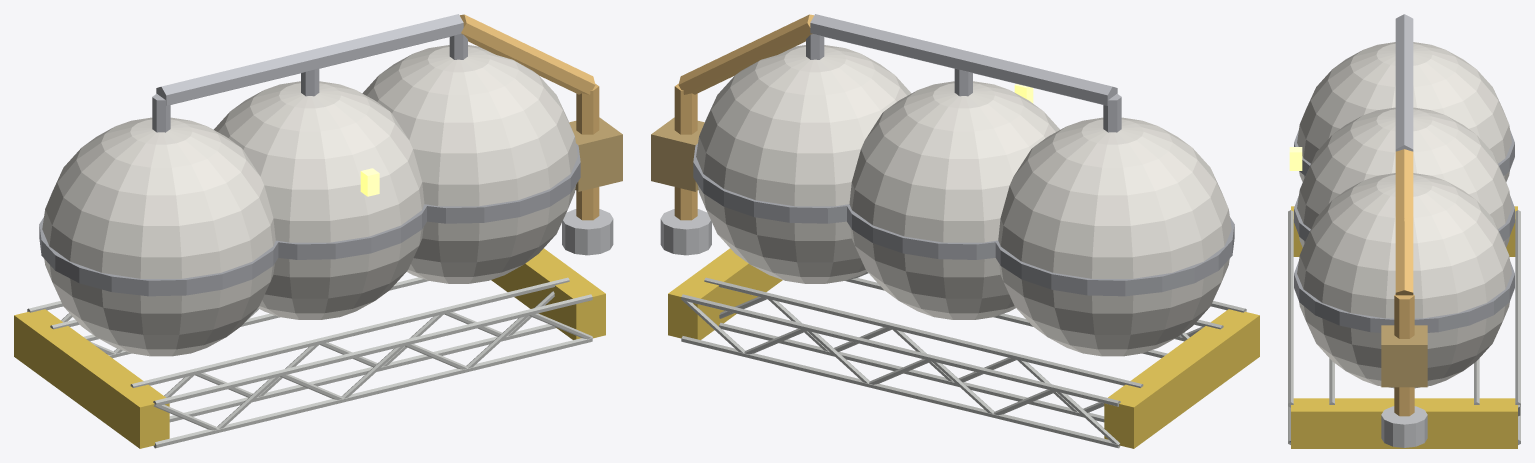
Rendered from slurry_tank.glb.
3 views of the same model, side by side, from view 1: azimuth 30°, elevation 25°; view 2: azimuth 150°, elevation 25°; view 3: azimuth 270°, elevation 25° (orthographic). The views are drawn at different scales.
Parts seen in each view (by area): view 1: tank0, tank2, tank1, cradle_s, cradle_end_a, cradle_end_f, band0, header_a, downpipe_a, header_b, band2, band1 (+5 smaller); view 2: tank0, tank2, tank1, cradle_p, cradle_end_a, cradle_end_f, band0, header_a, downpipe_a, header_b, band2, band1 (+5 smaller); view 3: tank2, tank1, tank0, cradle_end_f, band2, downpipe_a, valvebox, flange, cradle_p, cradle_s, downpipe_b, header_b (+5 smaller).
Boxes of the visible parts, x1=… form: tank0: x1=42, y1=117, x2=275, y2=356; tank2: x1=362, y1=45, x2=577, y2=283; tank1: x1=213, y1=81, x2=424, y2=319; cradle_s: x1=130, y1=277, x2=592, y2=448; cradle_end_a: x1=14, y1=309, x2=169, y2=448; cradle_end_f: x1=491, y1=248, x2=605, y2=339; band0: x1=39, y1=217, x2=278, y2=296; header_a: x1=156, y1=50, x2=314, y2=105; downpipe_a: x1=460, y1=14, x2=595, y2=94; header_b: x1=310, y1=14, x2=463, y2=69; band2: x1=427, y1=143, x2=580, y2=223; band1: x1=277, y1=204, x2=427, y2=259; tank0: x1=998, y1=117, x2=1231, y2=356; tank2: x1=696, y1=45, x2=911, y2=283; tank1: x1=849, y1=81, x2=1060, y2=319; cradle_p: x1=681, y1=277, x2=1143, y2=448; cradle_end_a: x1=1104, y1=309, x2=1259, y2=448; cradle_end_f: x1=668, y1=248, x2=782, y2=339; band0: x1=995, y1=217, x2=1234, y2=296; header_a: x1=959, y1=50, x2=1117, y2=105; downpipe_a: x1=678, y1=14, x2=813, y2=94; header_b: x1=810, y1=14, x2=963, y2=69; band2: x1=693, y1=143, x2=846, y2=223; band1: x1=846, y1=204, x2=995, y2=259; tank2: x1=1297, y1=173, x2=1511, y2=388; tank1: x1=1297, y1=107, x2=1511, y2=247; tank0: x1=1297, y1=42, x2=1511, y2=181; cradle_end_f: x1=1291, y1=398, x2=1517, y2=448; band2: x1=1294, y1=261, x2=1514, y2=332; downpipe_a: x1=1395, y1=149, x2=1413, y2=295; valvebox: x1=1381, y1=325, x2=1427, y2=387; flange: x1=1381, y1=406, x2=1427, y2=447; cradle_p: x1=1474, y1=210, x2=1520, y2=444; cradle_s: x1=1288, y1=210, x2=1334, y2=444; downpipe_b: x1=1394, y1=294, x2=1414, y2=416; header_b: x1=1395, y1=79, x2=1413, y2=151.
Size of the model in its own units: 11.19 by 5.76 by 4.5.
